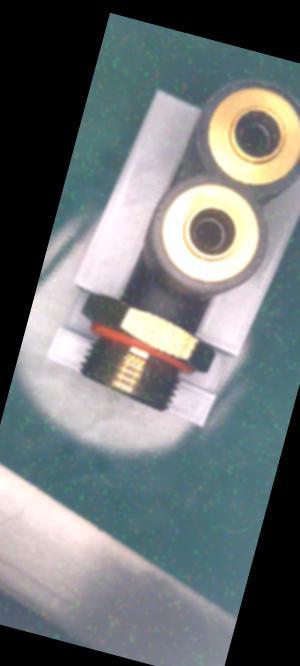craze: (154, 307, 164, 317)
white mark: (156, 295, 166, 307)
